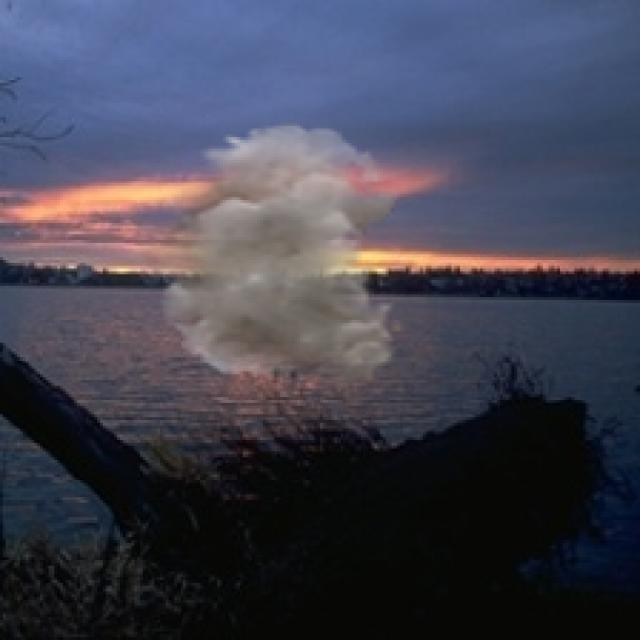smoke: (128, 123, 406, 388)
